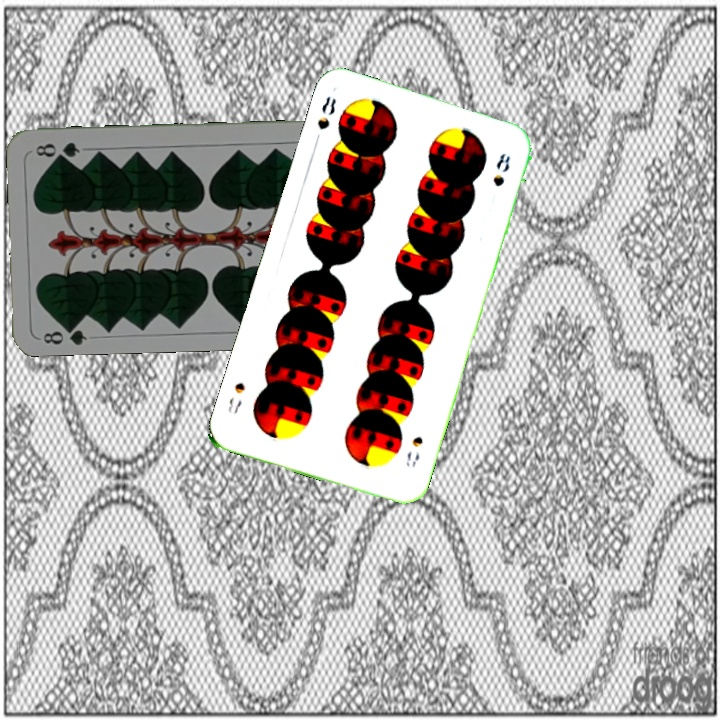G8: (39, 319, 89, 347)
S8: (310, 92, 339, 148), (401, 432, 426, 470)
